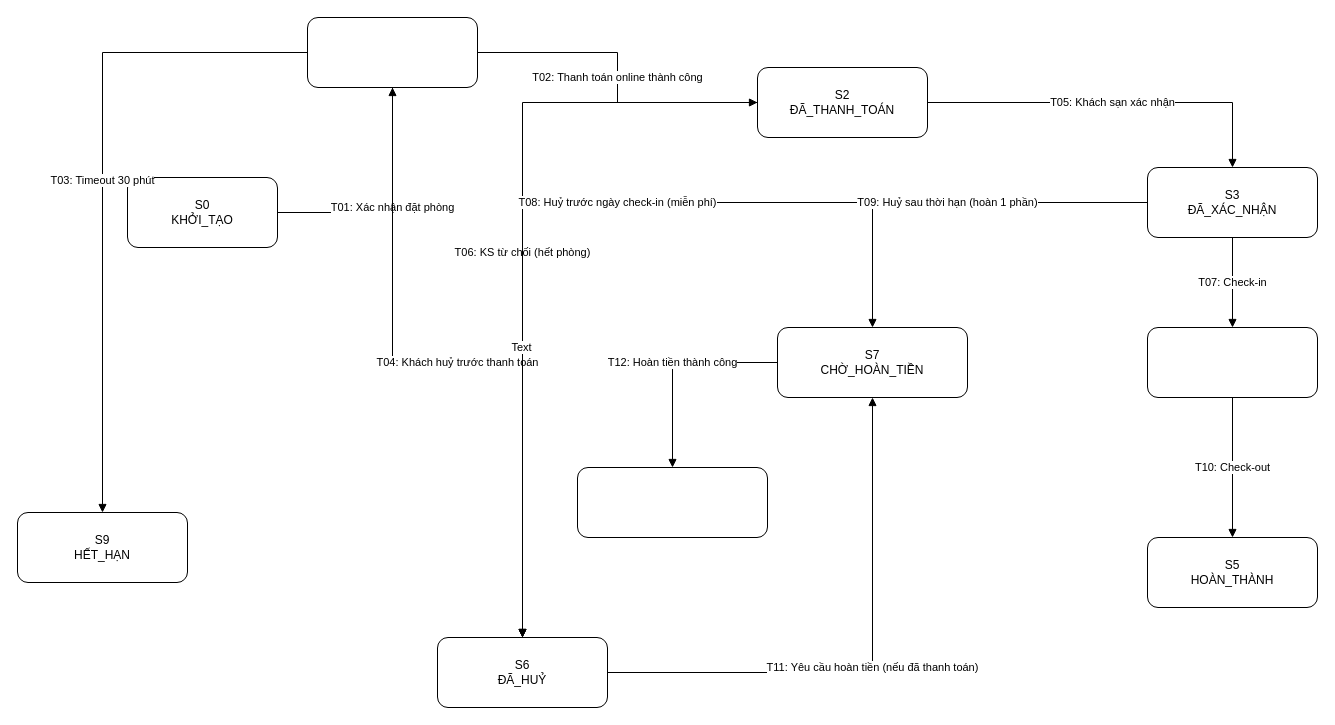
This 1335x725 diagram has some shape labels left out. Here are the shapes that lost their labels. From the top down, the centre of each, then its label:
At pixel 392 52: "S1 CHỜ_THANH_TOÁN".
At pixel 1232 362: "S4 ĐANG_LƯU_TRÚ".
At pixel 672 502: "S8 ĐÃ_HOÀN_TIỀN".
